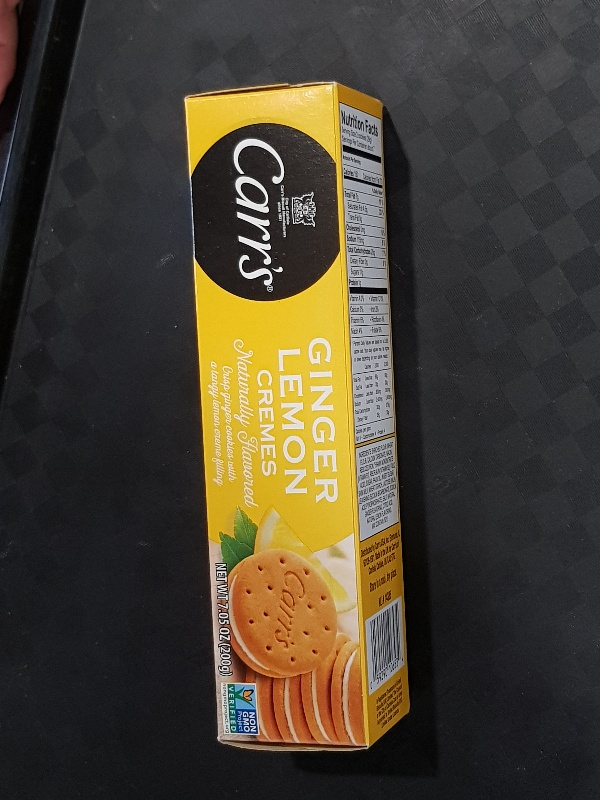Carr's Ginger Lemon Cremes: (182, 79, 411, 751)
